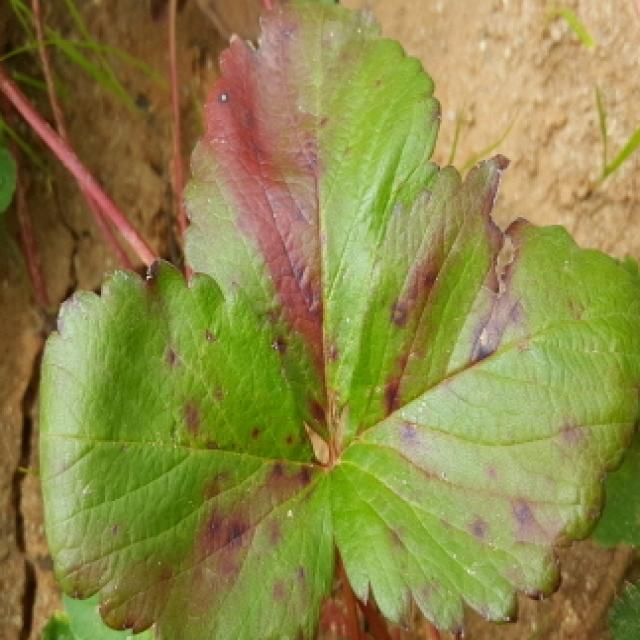Leaf Spot: (330, 153, 640, 639), (180, 0, 443, 451), (38, 254, 335, 640)
